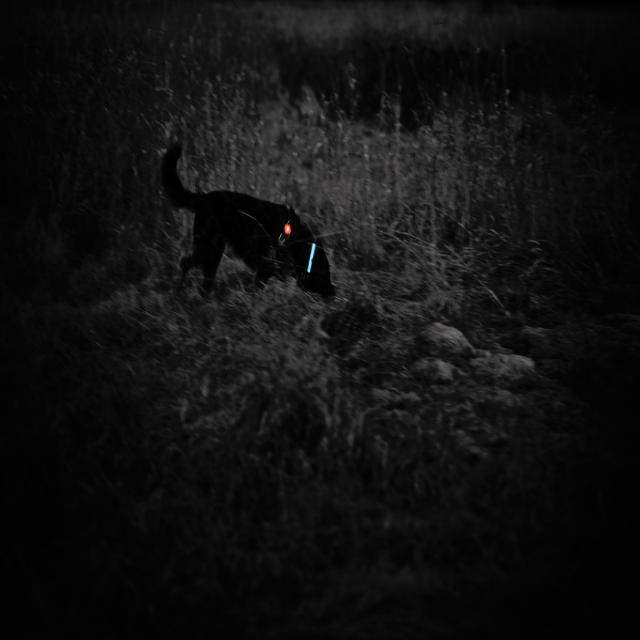Dog: (172, 165, 382, 309)
